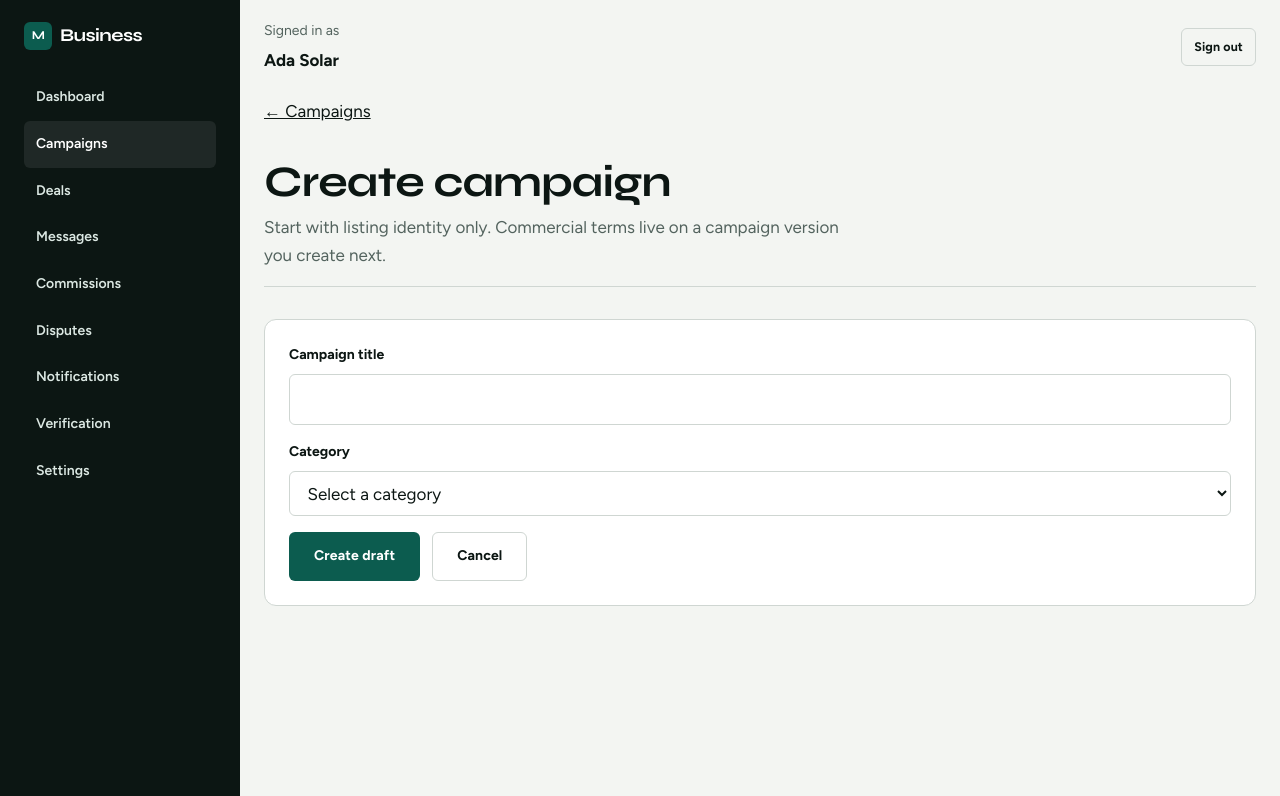
Business campaigns desk › validates create form and creates a campaign
Expected: the heading "Create campaign" is shown, [264,156,671,208]
Step 1. Click the button "Create draft" → (355, 556), box [289,532,420,581]
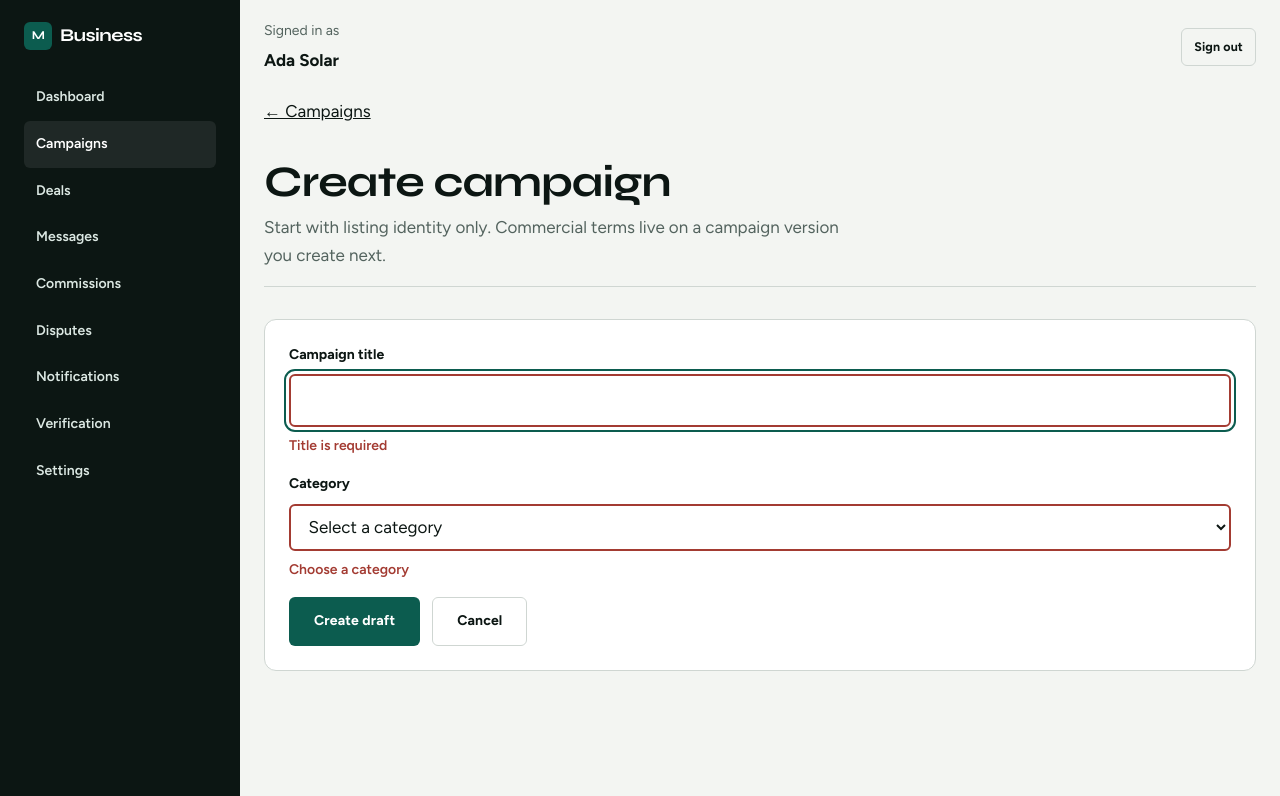
Expected: the text "Title is required" is shown, [289,436,387,454]
Step 2. Type "Lagos Solar Push" into the field labelled "Campaign title" → (760, 400), box [289,374,1231,426]
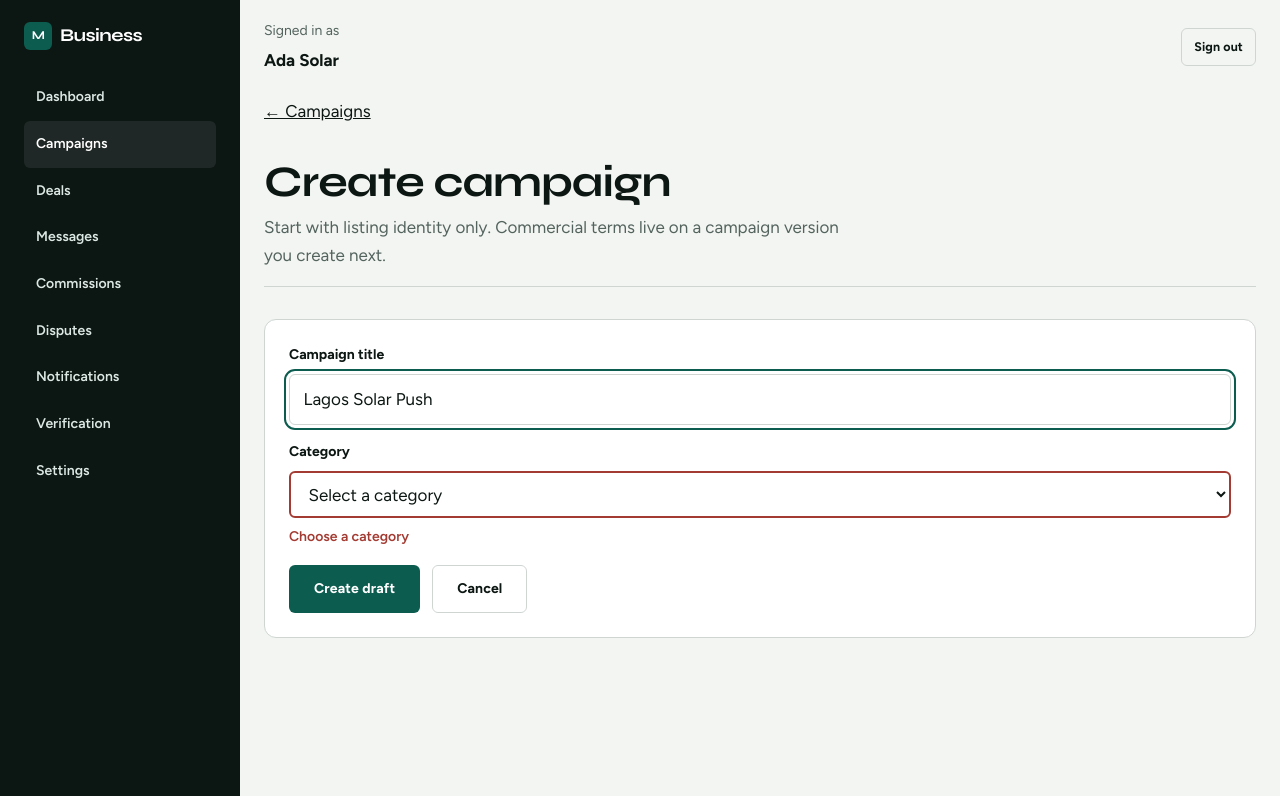
Step 3. Select "Solar & Energy" in the dropdown labelled "Category" → (760, 495), box [289,471,1231,518]
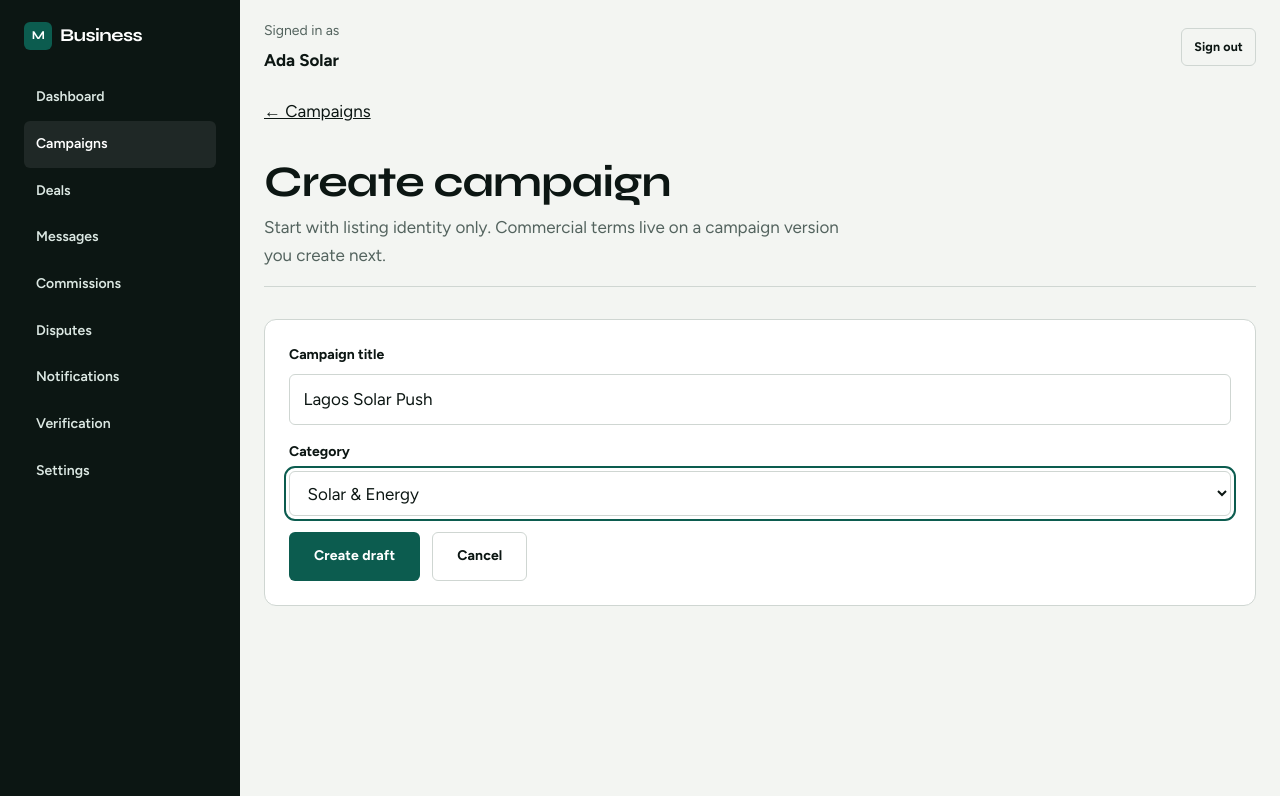
Step 4. Click the button "Create draft" → (355, 556), box [289,532,420,581]
(page scrolled)
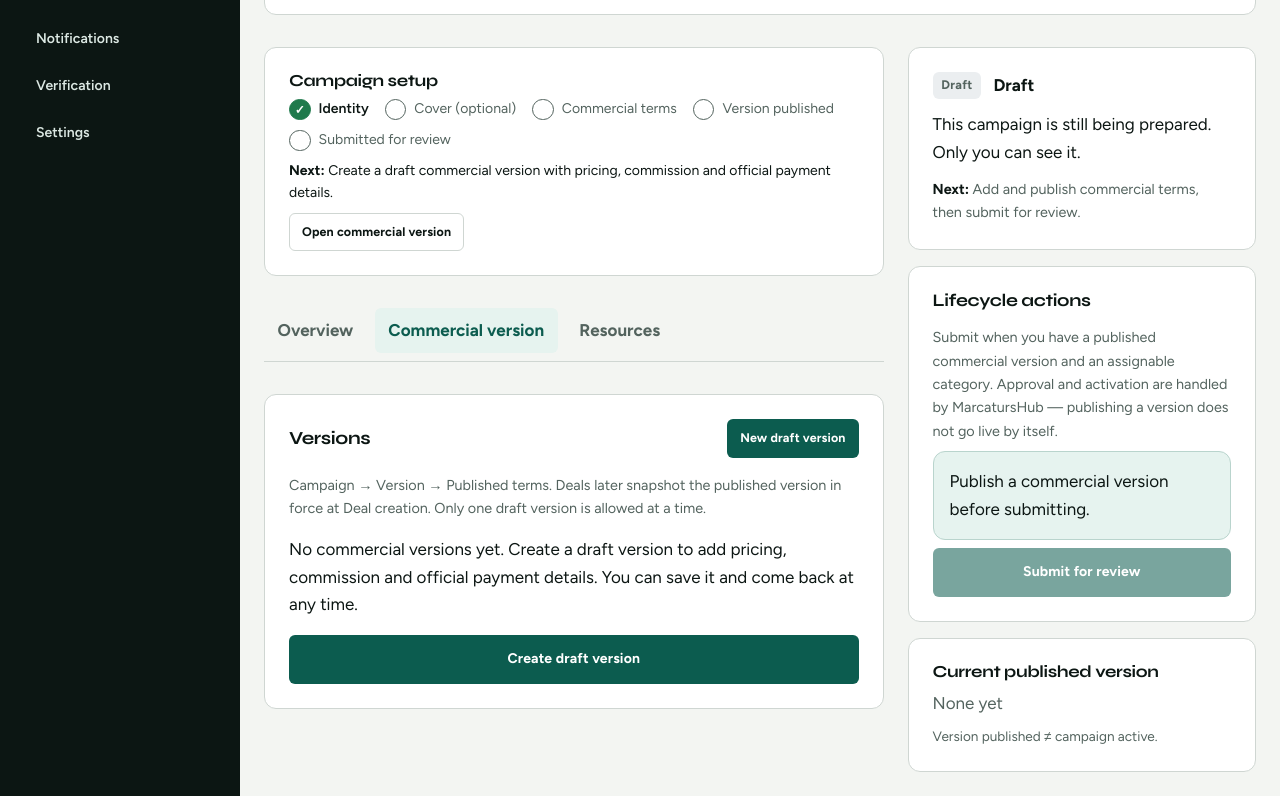
Expected: the button "Create draft version" is shown, [289,635,858,684]
